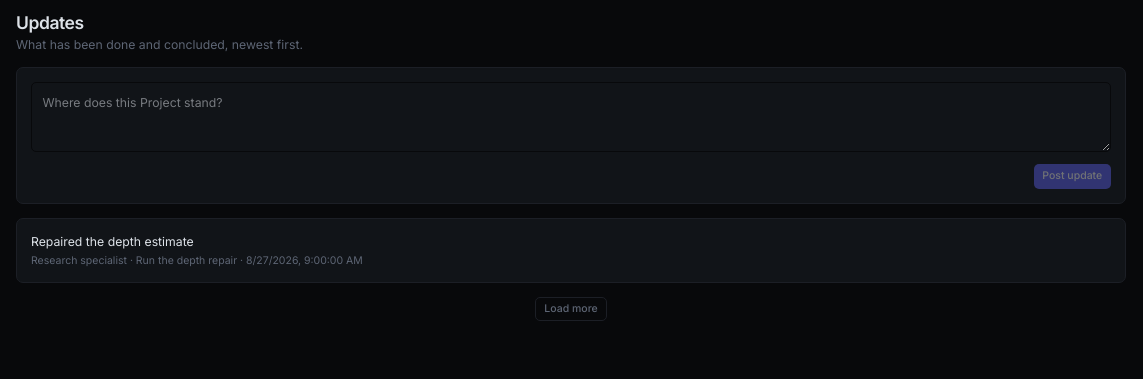
Test: Project updates › carries the cursor forward and appends the next page
Click the button "Load more" at (571, 309), box [535,296,607,321]
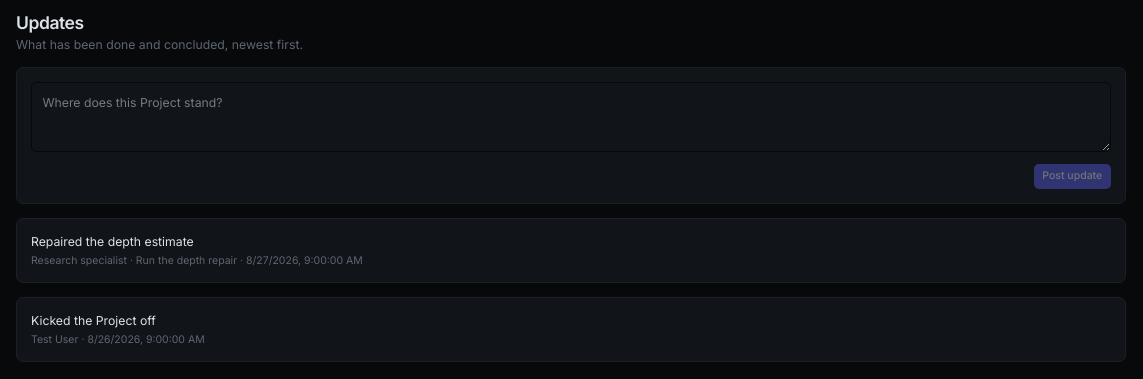
Check: the text "Repaired the depth estimate" is shown, box [31,232,194,250]
Check: the text "Kicked the Project off" is shown, box [31,312,156,329]
